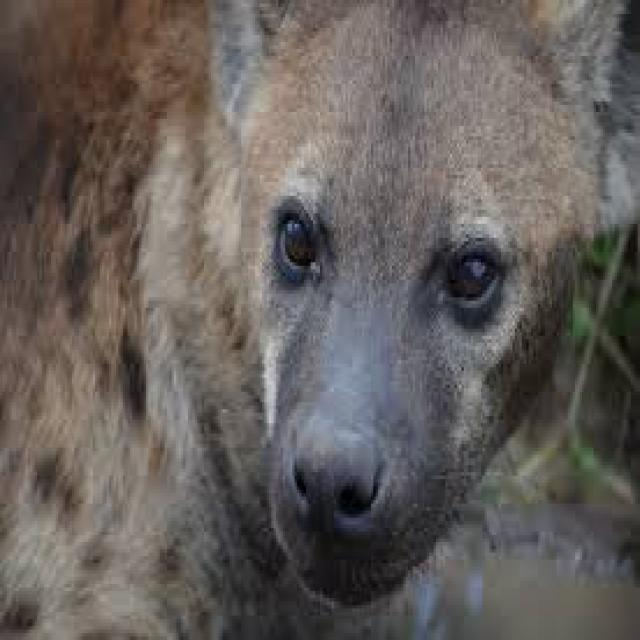Hyena: (0, 2, 614, 638)
